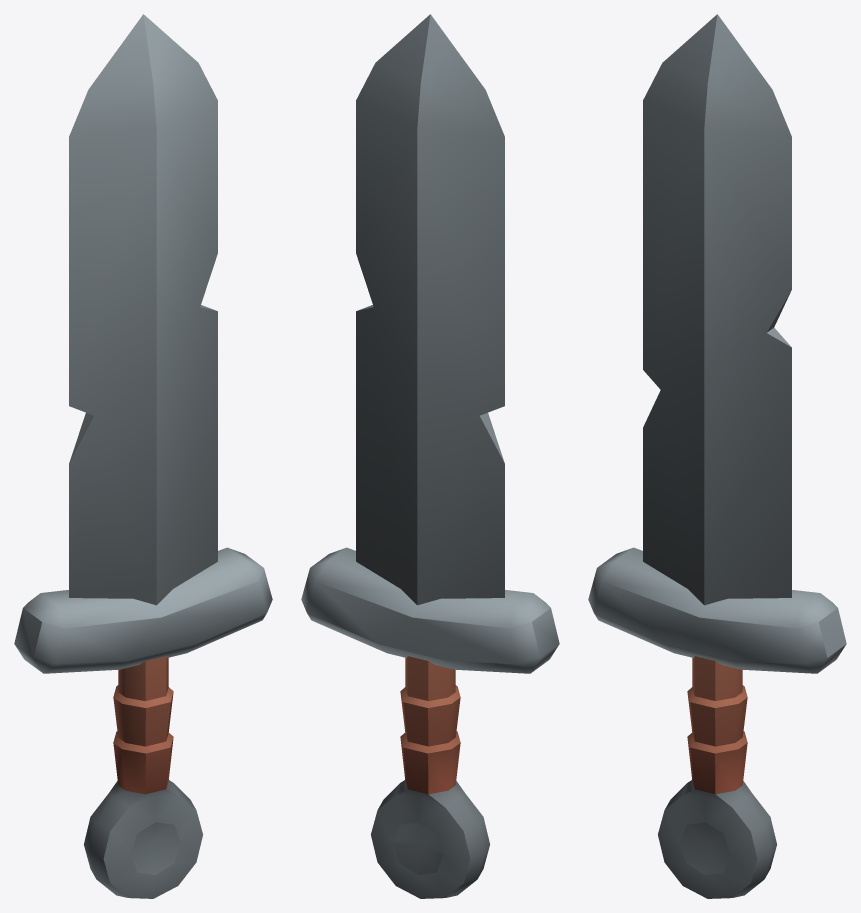
Rendered from sword_1handed_half.fbx.
The picture shows the model from 3 angles, left to right: view 1: azimuth 30°, elevation 25°; view 2: azimuth 150°, elevation 25°; view 3: azimuth 330°, elevation 25°; orthographic projection.
Visible parts, largest first — view 1: sword_1handed; view 2: sword_1handed; view 3: sword_1handed.
Part boxes in pixels (x1,y1,x2,y2): sword_1handed: (14, 14, 272, 898); sword_1handed: (301, 14, 559, 898); sword_1handed: (588, 14, 846, 898).
Bounding box in the file's own units: 25.17 × 88.76 × 6.53.
